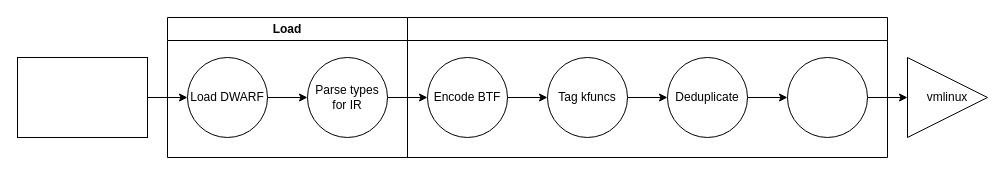
This 1005x175 diagram has some shape labels left out. Here are the shapes that lost their labels. From the top down, the box of each, then its label:
(16, 56, 148, 138): $ pahole -J <vmlinux with DWARF> <encoding options>
(406, 16, 888, 158): Encode
(786, 56, 868, 138): Write to file or ELF
